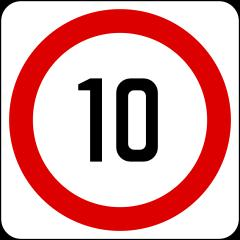Speed Limit -10-: (70, 62, 168, 175)
